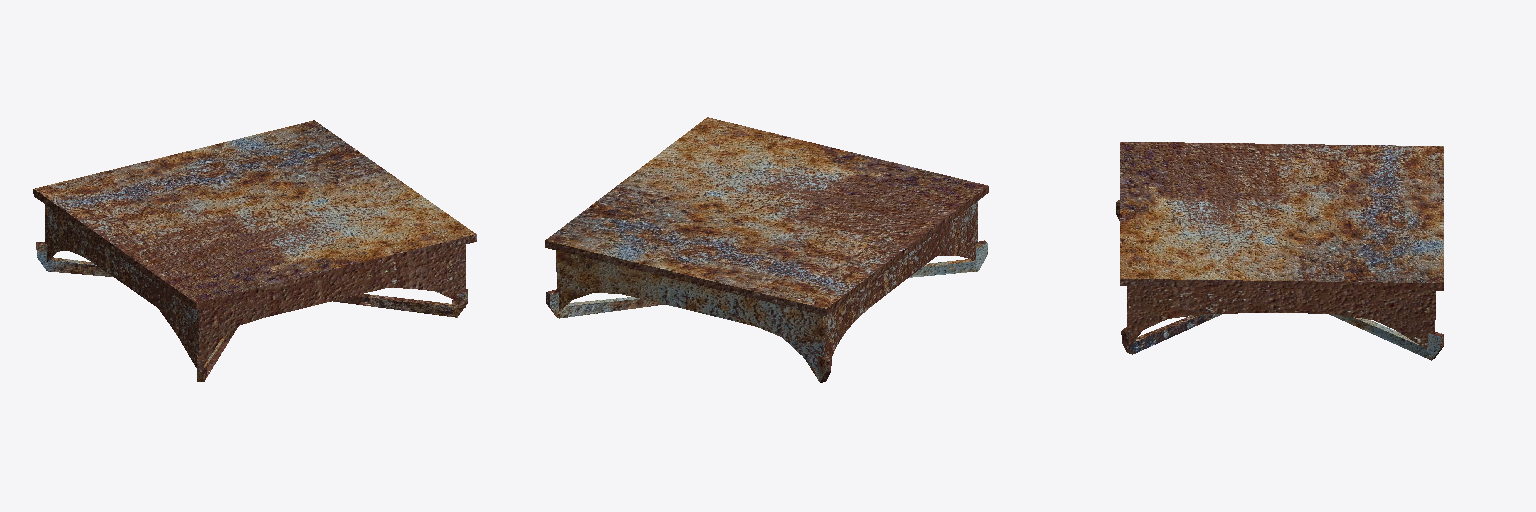
3 views of the same model, side by side, from view 1: azimuth 30°, elevation 25°; view 2: azimuth 150°, elevation 25°; view 3: azimuth 270°, elevation 25° (orthographic).
Visible parts, largest first — view 1: Vert.002_New_Material.001; view 2: Vert.002_New_Material.001; view 3: Vert.002_New_Material.001.
Boxes of the visible parts, <box> form: Vert.002_New_Material.001: <box>33,120,476,381</box>; Vert.002_New_Material.001: <box>545,117,988,382</box>; Vert.002_New_Material.001: <box>1116,142,1443,360</box>.
Bounding box in the file's own units: 6.02 × 1.87 × 6.05.
1 materials, 1 textured.